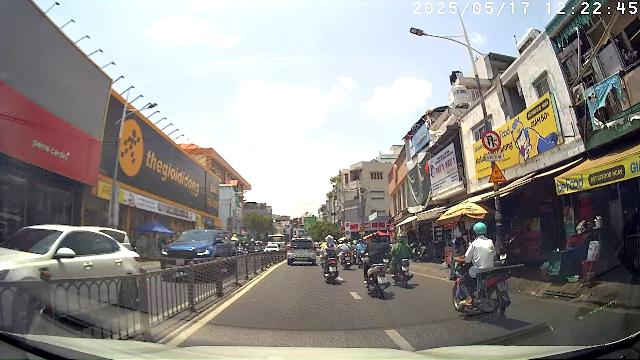124b-cam-oto-quay-dau-xe: (481, 130, 501, 152)
